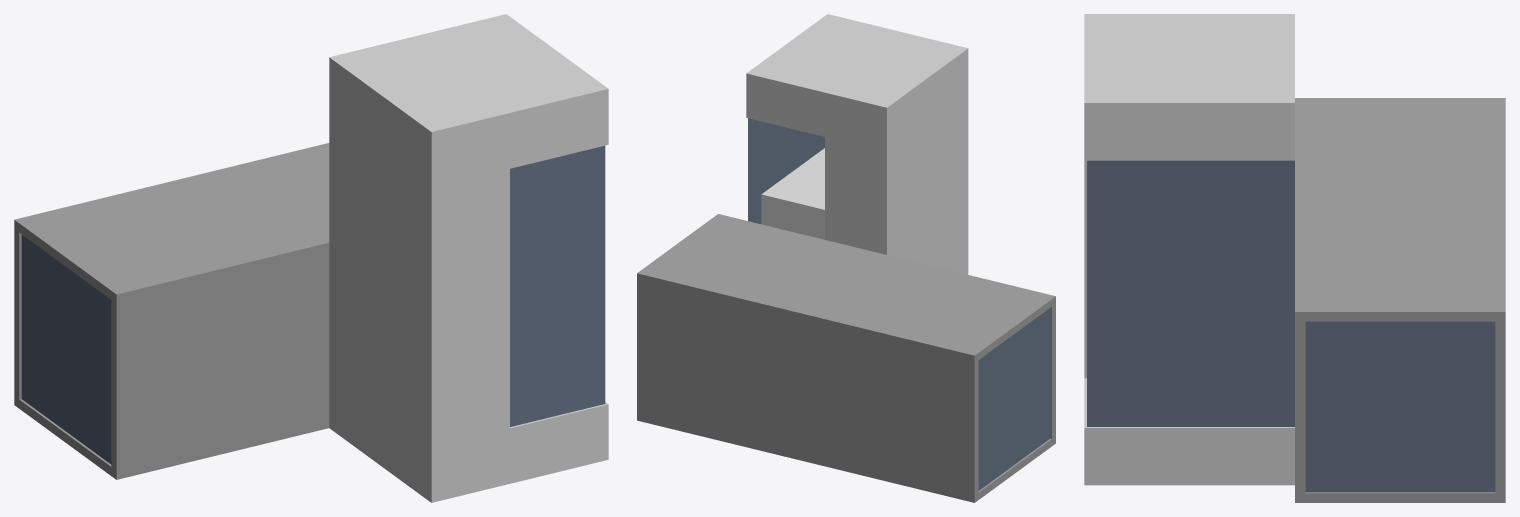
3 renders of one model, left to right at view 1: azimuth 30°, elevation 25°; view 2: azimuth 150°, elevation 25°; view 3: azimuth 270°, elevation 25°, orthographic. The views are drawn at different scales.
Parts seen in each view (by area): view 1: group_2, group_0, instance_1, instance_0, instance_6, instance_7, instance_9, instance_8; view 2: group_0, group_2, Cube, instance_6, instance_7, instance_8, instance_9, instance_5, instance_4, instance_3; view 3: group_0, group_2, instance_2, instance_3, instance_4, instance_5, instance_4.001, instance_3.001, instance_2.001, instance_5.001.
Boxes of the visible parts, <box> form: group_2: <box>329,14,608,502</box>; group_0: <box>14,143,329,479</box>; instance_1: <box>557,145,605,415</box>; instance_0: <box>510,157,556,426</box>; instance_6: <box>44,251,67,432</box>; instance_7: <box>67,268,90,449</box>; instance_9: <box>21,234,44,415</box>; instance_8: <box>90,285,111,464</box>; group_0: <box>637,214,1055,502</box>; group_2: <box>746,14,968,274</box>; Cube: <box>761,148,824,239</box>; instance_6: <box>995,335,1013,478</box>; instance_7: <box>1013,321,1031,464</box>; instance_8: <box>1032,308,1049,451</box>; instance_9: <box>978,348,995,490</box>; instance_5: <box>748,118,768,224</box>; instance_4: <box>768,123,788,188</box>; instance_3: <box>788,128,808,174</box>; group_0: <box>1295,98,1505,502</box>; group_2: <box>1084,14,1294,485</box>; instance_2: <box>1087,160,1138,426</box>; instance_3: <box>1139,160,1190,426</box>; instance_4: <box>1191,160,1242,426</box>; instance_5: <box>1243,160,1294,426</box>; instance_4.001: <box>1447,321,1495,492</box>; instance_3.001: <box>1400,321,1447,492</box>; instance_2.001: <box>1305,321,1352,492</box>; instance_5.001: <box>1353,321,1400,492</box>.
Size of the model in its own units: 19.2 by 16 by 16.
